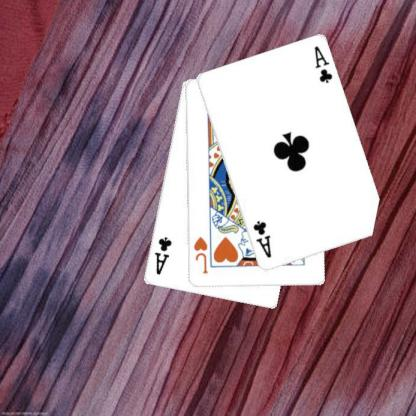AC: (313, 44, 336, 85), (252, 218, 274, 260), (153, 234, 174, 276)
JH: (192, 235, 210, 276)
